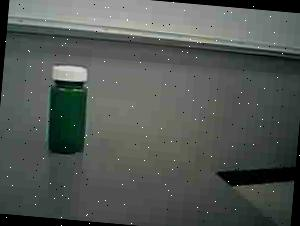Bottle C: (34, 55, 103, 164)
